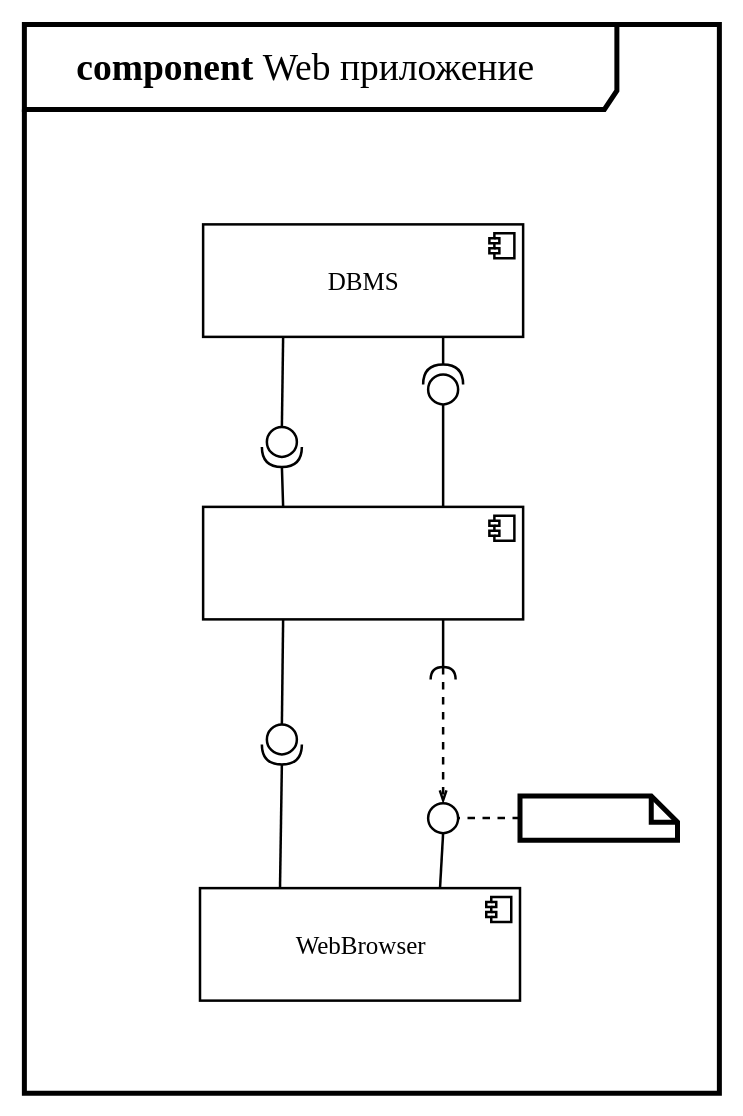
The diagram is 743 pixels wide and 1116 high, and some of its shapes have lost their labels. The shapes that lost their labels are listed below. From the top down, each one's centre as x and y in pixels, then its label:
[362,562]: Application Service
[598,817]: Интерфейс
